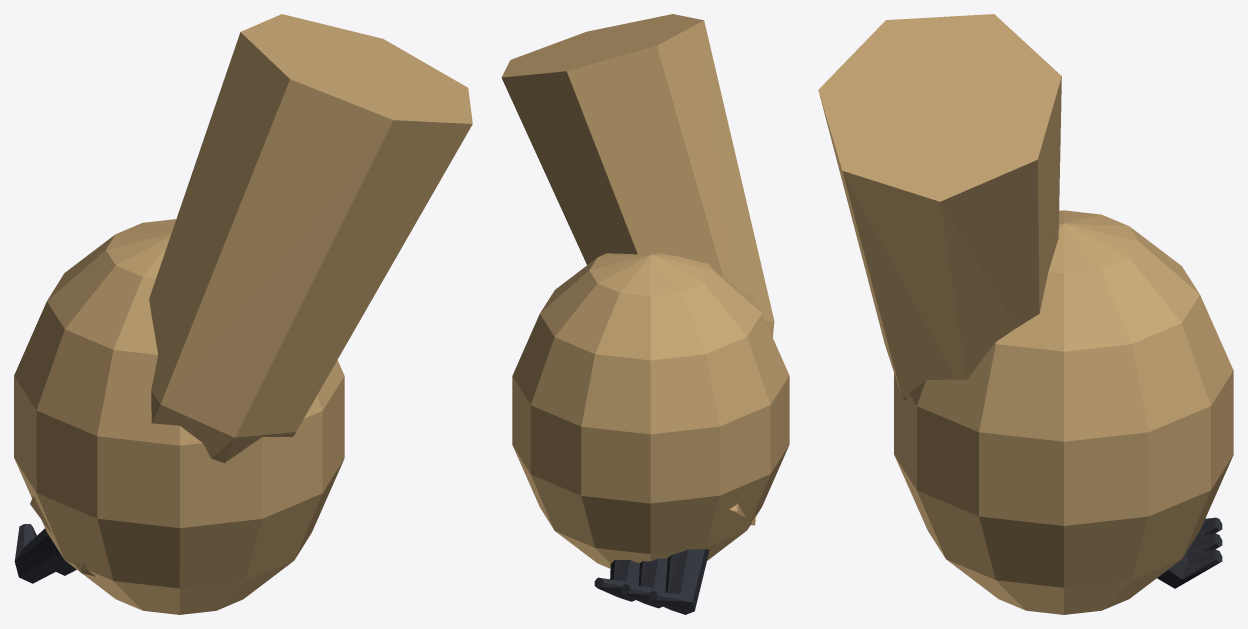
File: gorehulk_d_arm_-1.obj
3 views of the same model, side by side, from view 1: azimuth 30°, elevation 25°; view 2: azimuth 150°, elevation 25°; view 3: azimuth 270°, elevation 25° (orthographic). The views are drawn at different scales.
Parts seen in each view (by area): view 1: gorehulk_d_arm_-1; view 2: gorehulk_d_arm_-1; view 3: gorehulk_d_arm_-1.
Boxes of the visible parts, bbox=[...] form: gorehulk_d_arm_-1: bbox=[14, 14, 472, 614]; gorehulk_d_arm_-1: bbox=[501, 14, 789, 614]; gorehulk_d_arm_-1: bbox=[818, 14, 1233, 614].
Bounding box in the file's own units: 0.566 × 0.8576 × 0.5367.
